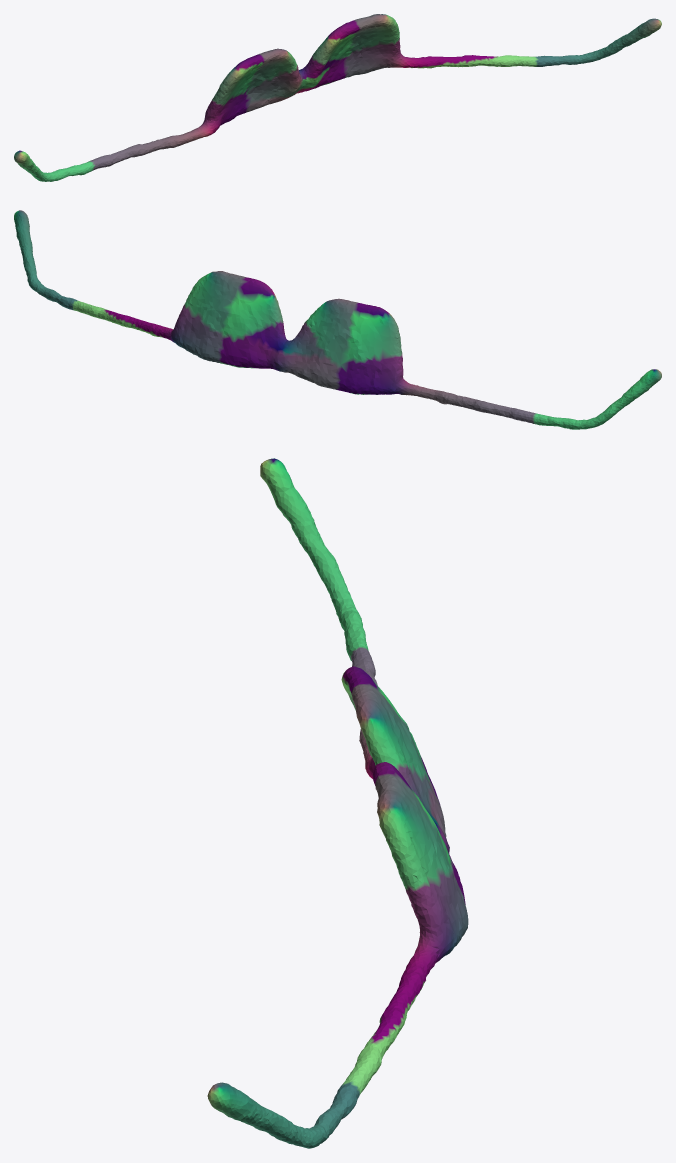
Rendered from glasses-18.off.obj.
3 renders of one model, top to bottom at view 1: azimuth 30°, elevation 25°; view 2: azimuth 150°, elevation 25°; view 3: azimuth 270°, elevation 25°, orthographic. The views are drawn at different scales.
Size of the model in its own units: 1.76 by 0.2187 by 0.3144.
